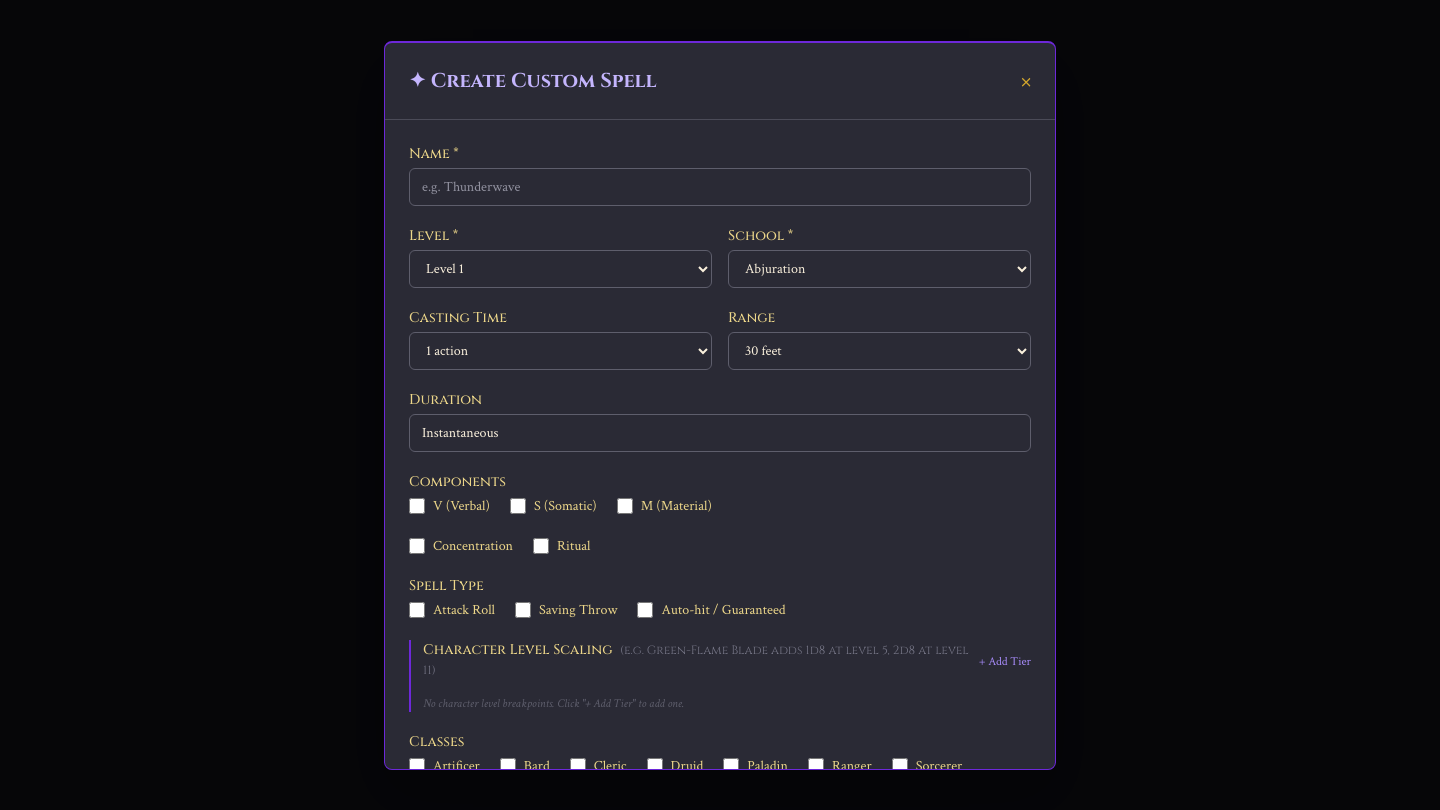
Test: CreateSpellModal › validation › shows a material error when M component is checked but material is empty
The width and height of the screenshot is (1440, 810).
In the field with placeholder "e.g. Thunderwave": point(720, 186) [409,168,1031,206], type "My Spell"
(page scrolled)
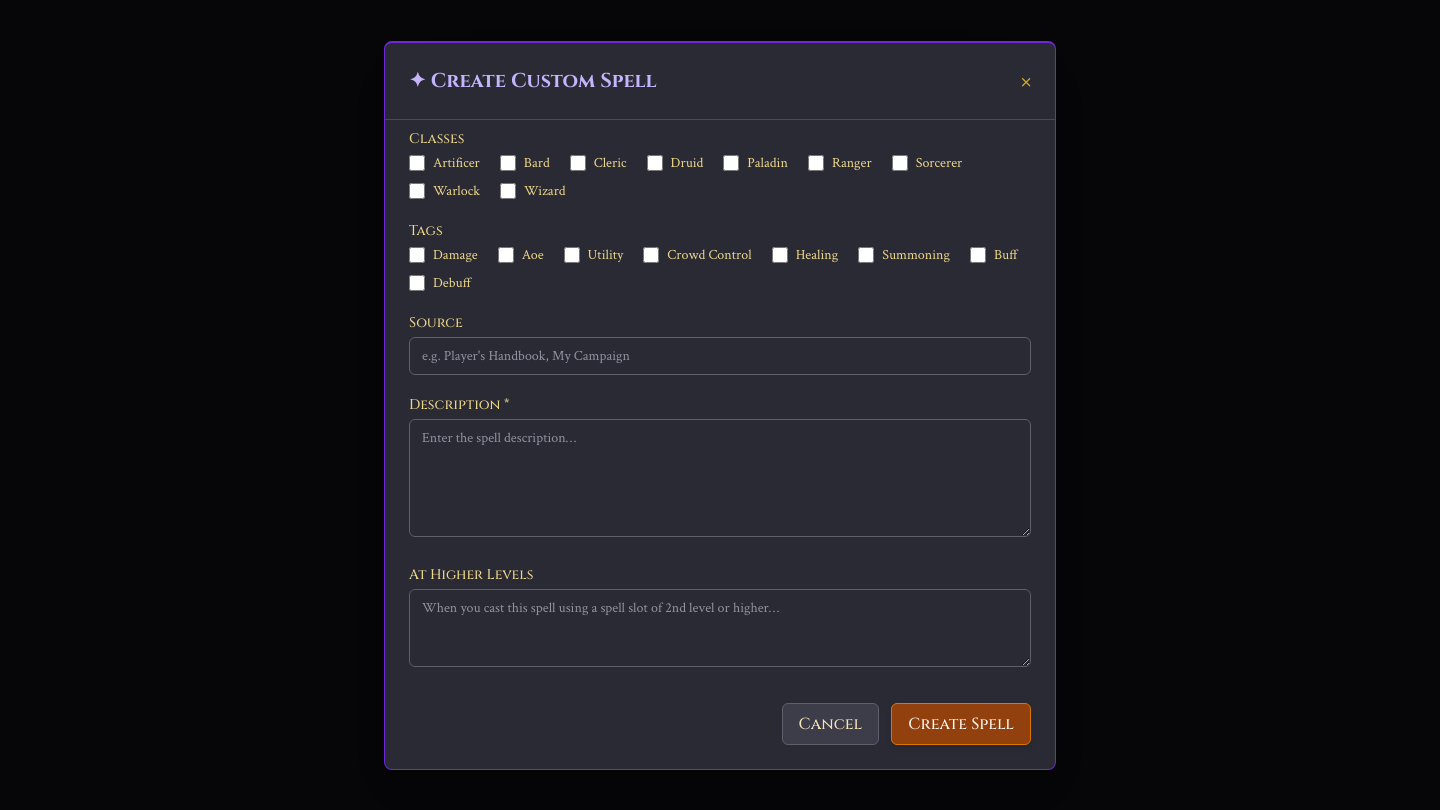
In the text box with placeholder "Enter the spell description…": point(720, 478) [409,418,1031,536], type "A description."
(page scrolled)
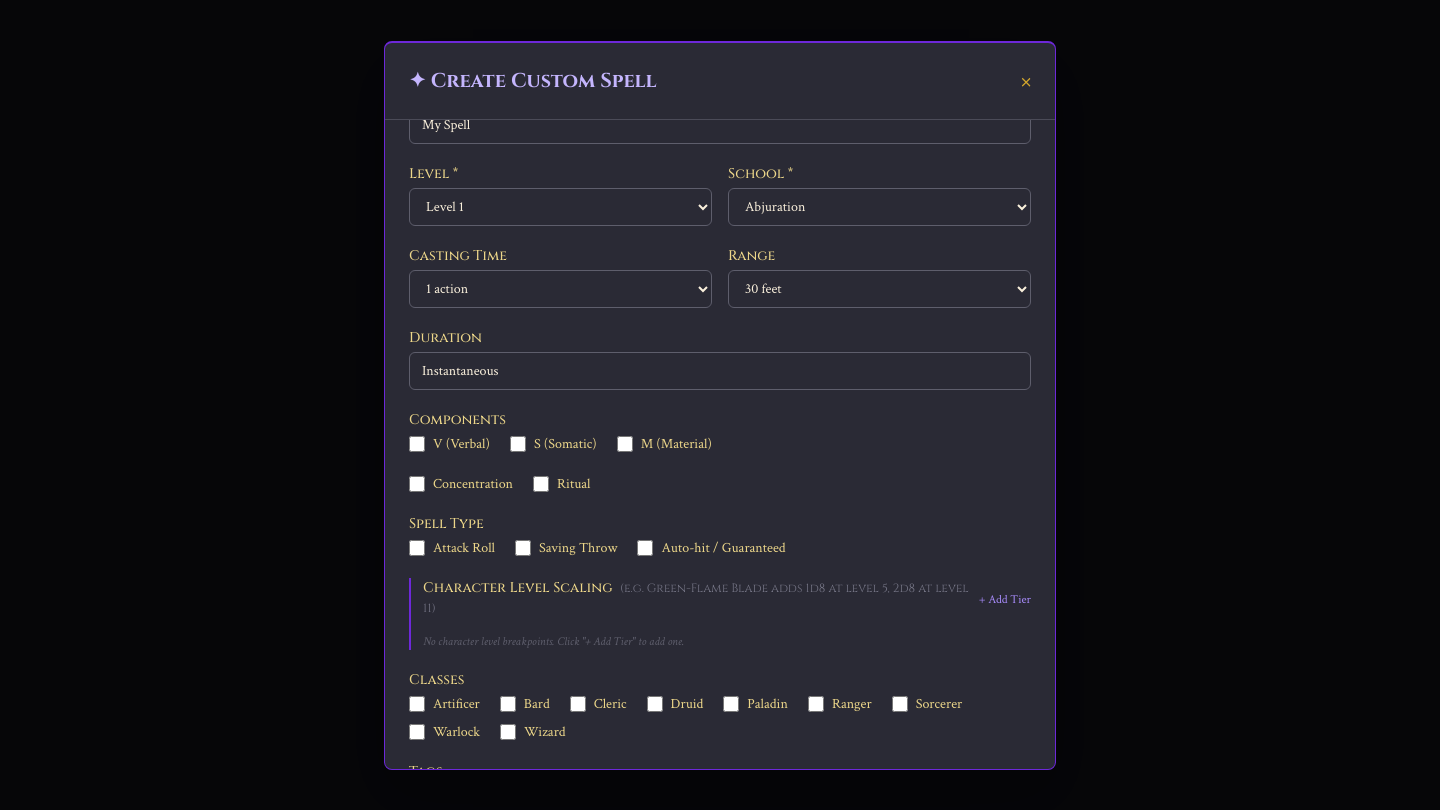
Click the checkbox labelled "M (Material)": point(625, 444) [617,436,633,452]
(page scrolled)
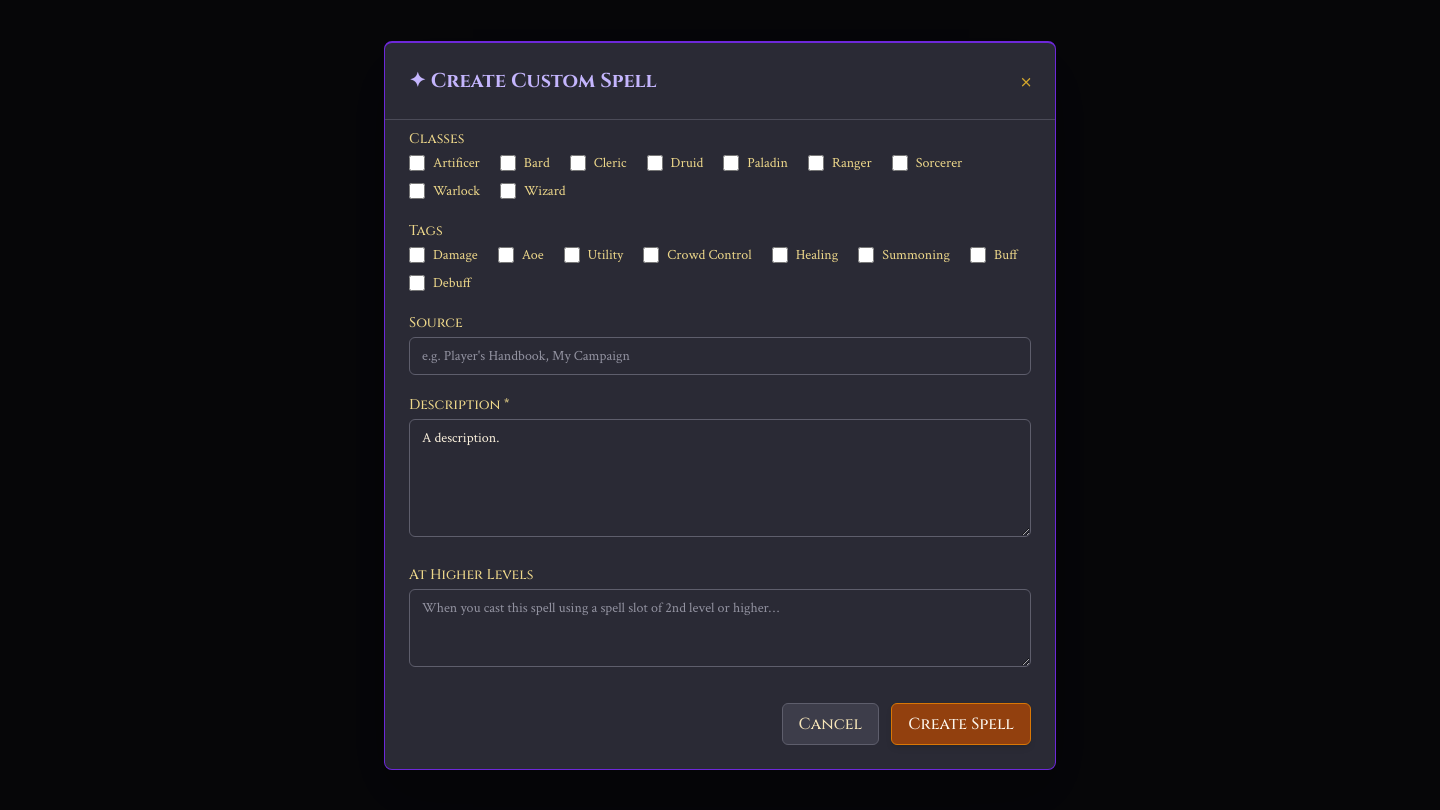
Click the button "Create Spell": point(961, 724) [891,702,1031,744]
(page scrolled)
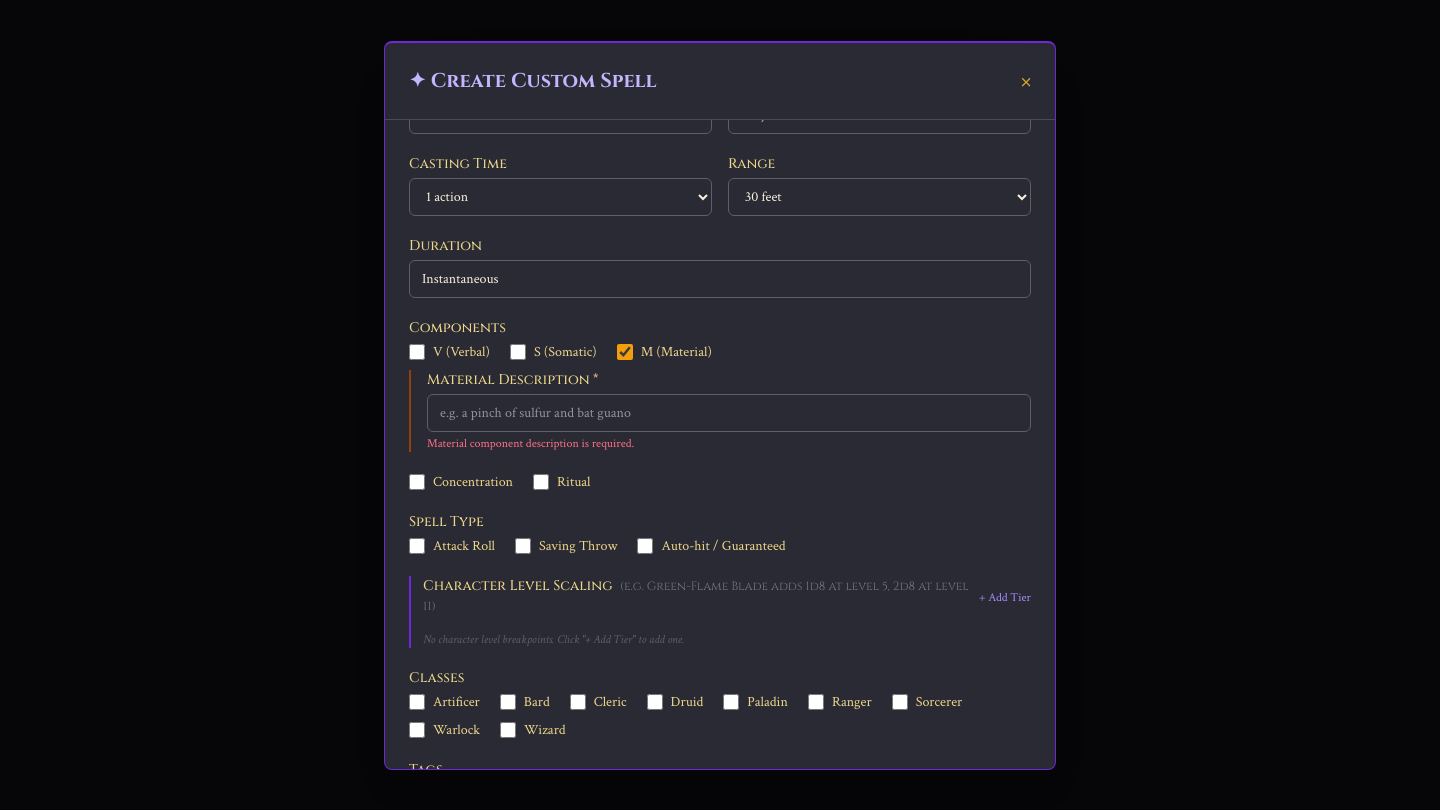
Expected: the text "Material component description is required." is shown, [427,436,634,450]
